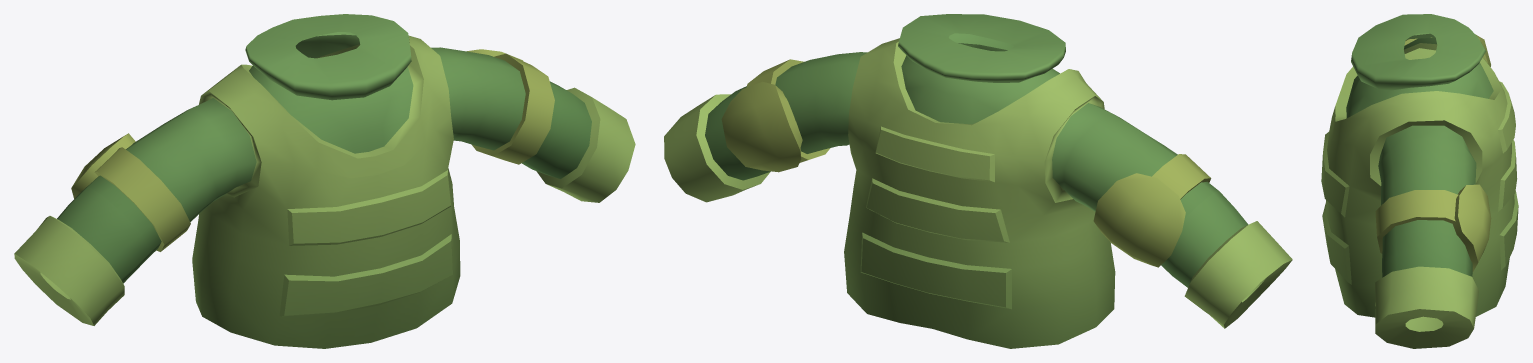
Rendered from Costume_11_01.glb.
3 views of the same model, side by side, from view 1: azimuth 30°, elevation 25°; view 2: azimuth 150°, elevation 25°; view 3: azimuth 270°, elevation 25° (orthographic). The views are drawn at different scales.
Parts seen in each view (by area): view 1: Costume_11_01; view 2: Costume_11_01; view 3: Costume_11_01.
Part boxes in pixels (x1,y1,x2,y2): Costume_11_01: [14, 14, 635, 348]; Costume_11_01: [664, 14, 1292, 348]; Costume_11_01: [1321, 14, 1518, 348].
Size of the model in its own units: 0.6789 by 0.2948 by 0.2169.
Materials: 1 (1 with a texture image).
